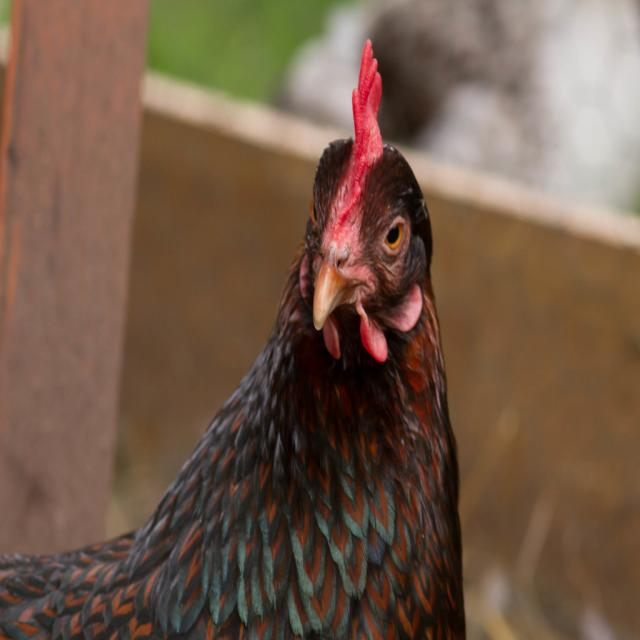Chicken: (59, 87, 462, 640)
